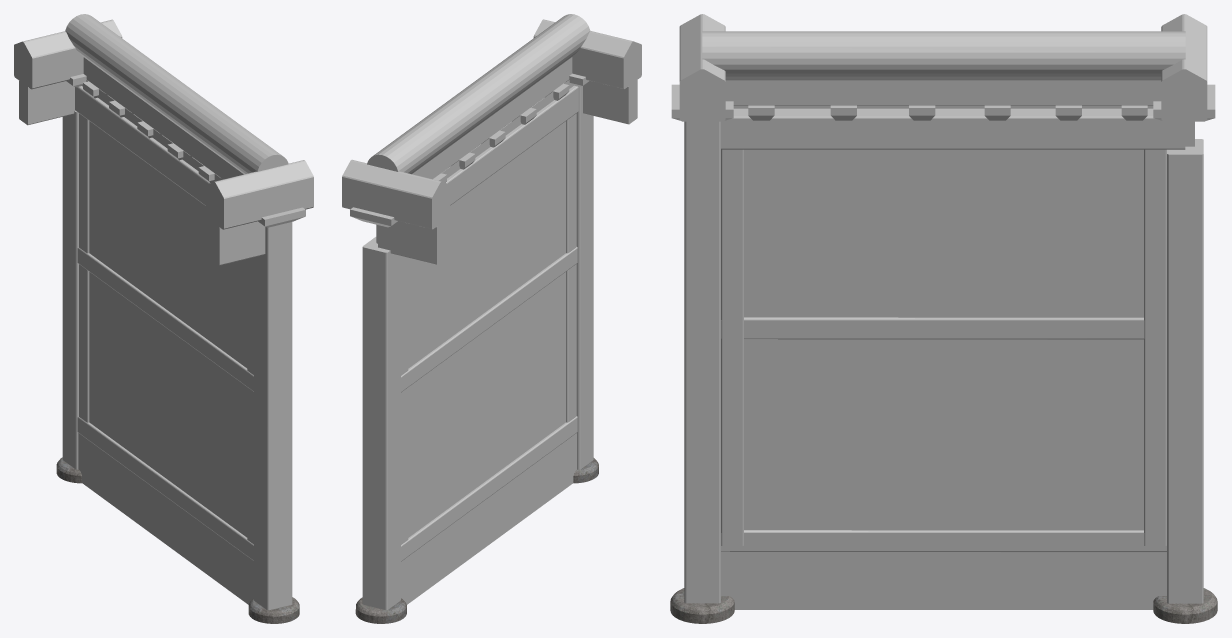
Rendered from SM_Building_Wall_13.FBX.
The picture shows the model from 3 angles, left to right: view 1: azimuth 30°, elevation 25°; view 2: azimuth 150°, elevation 25°; view 3: azimuth 270°, elevation 25°; orthographic projection. The views are drawn at different scales.
Visible parts, largest first — view 1: SM_Building_Wall_13; view 2: SM_Building_Wall_13; view 3: SM_Building_Wall_13.
Part boxes in pixels (left/top/right/bottom): SM_Building_Wall_13: left=14, top=14, right=313, bottom=623; SM_Building_Wall_13: left=342, top=14, right=641, bottom=623; SM_Building_Wall_13: left=670, top=14, right=1217, bottom=623.
Bounding box in the file's own units: 162 × 789 × 679.
